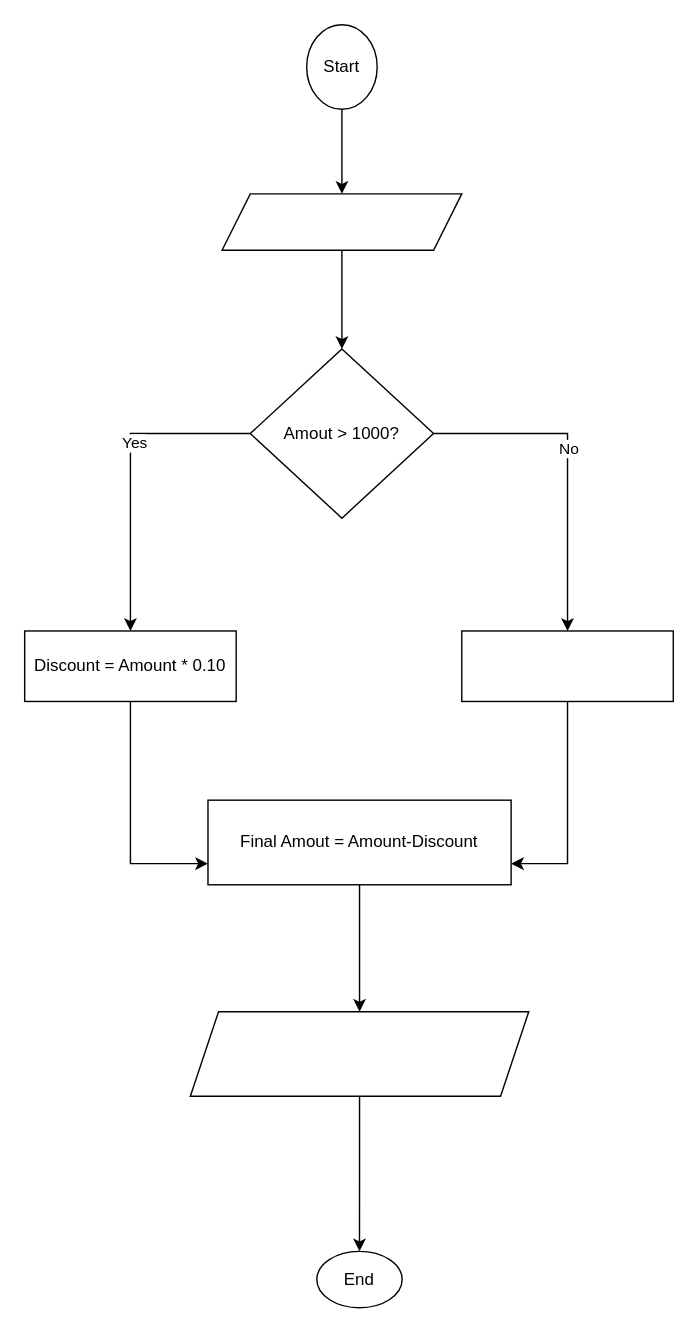
The diagram is 698 pixels wide and 1332 high, and some of its shapes have lost their labels. The centre of each missing label's shape, as x and y in pixels:
Discount = 0: point (566, 665)
Display discount and Final Amount: point (359, 1053)
Input purchase amout: point (341, 221)
